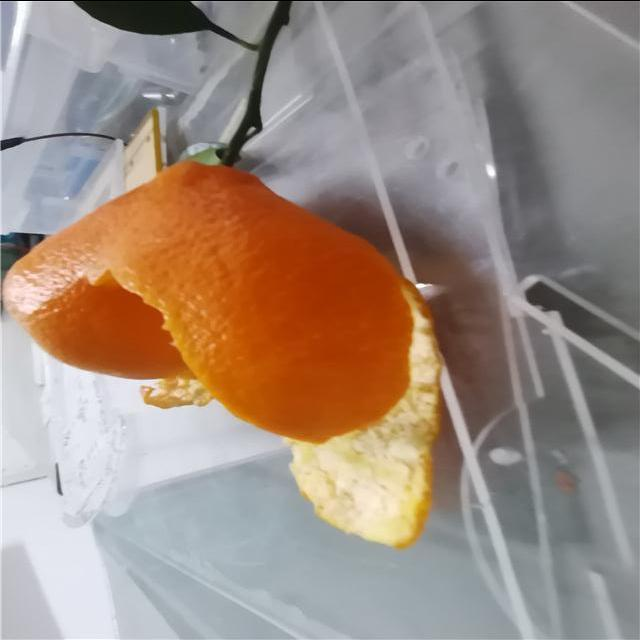orange peel: (0, 158, 446, 548)
